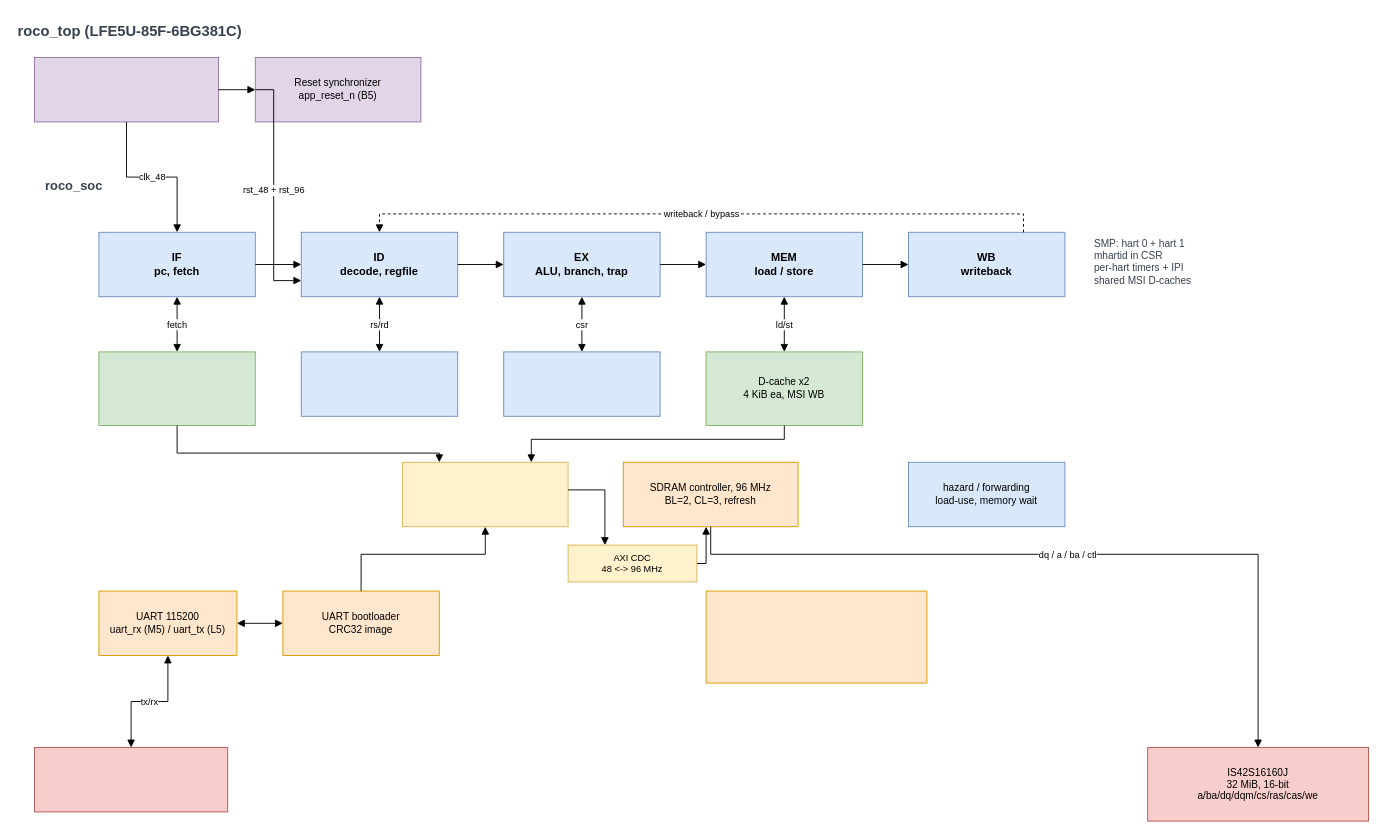
Image size: 1385x837. Some labels were removed from this diagram. The shapes that lost their labels are listed below. From the top down, each one's box as (x1, y1, x2, y2) in pixels, then its label:
(34, 57, 218, 122): EHXPLLL 24 MHz -> 96 + 48 MHz clk_24 (A4)
(98, 351, 255, 426): I-cache x2 2 KiB ea, 16 B lines
(300, 351, 458, 416): register file 32 x 32
(503, 351, 660, 416): CSR file traps, counters
(402, 461, 568, 527): AXI4 xbar + MSI hub 9 masters, 2 slaves
(705, 590, 927, 683): MMIO per-hart timers, IPI, LEDs, buttons, counters, hart1 mailbox, tohost
(34, 747, 228, 812): FT2232H channel B USB debug UART
